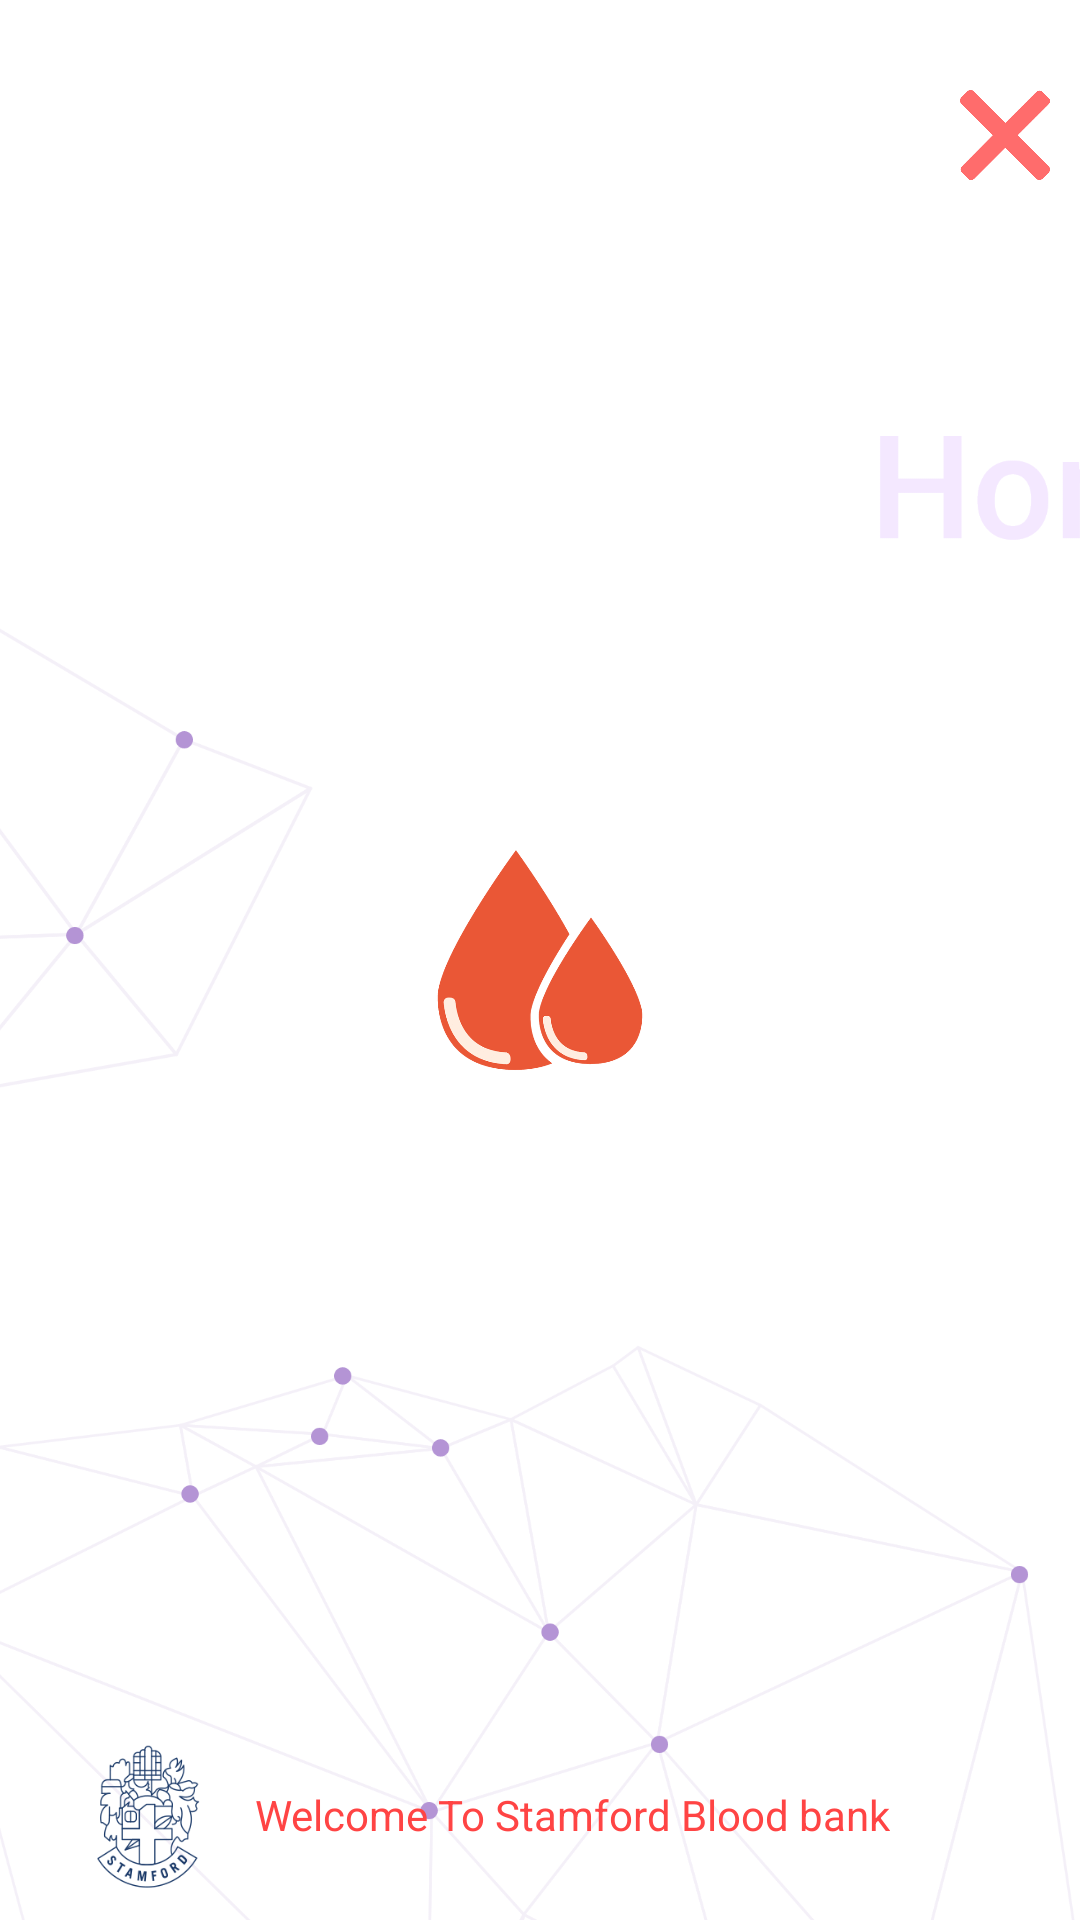

Icons on this 1080x1920 Android screen, each with the point to tap as (x,y):
bloodpng: (540,960)
cross sign: (1005,135)
